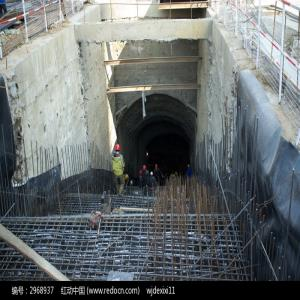red: (115, 145, 121, 155), (155, 164, 159, 171), (144, 165, 147, 173), (140, 170, 143, 176)
white: (151, 171, 155, 177)
yellow: (126, 175, 130, 182)
